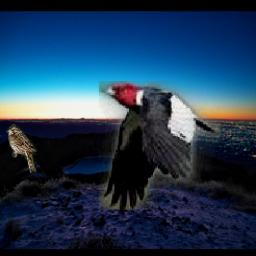Sparrow: (7, 125, 37, 174)
Woodpecker: (100, 81, 222, 209)
